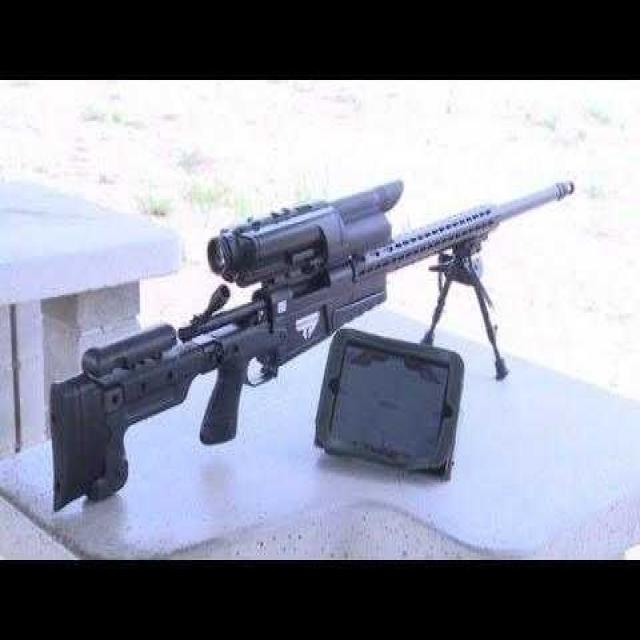heavyweapon: (17, 147, 590, 504)
